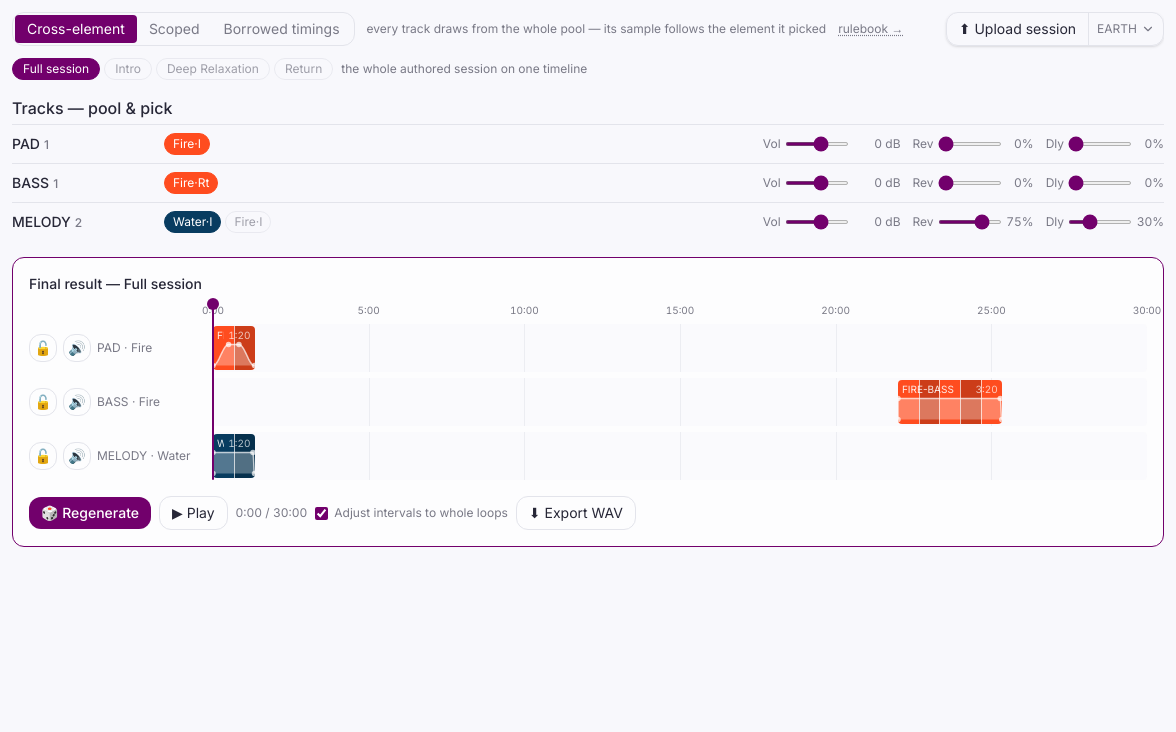
Scenario: RemixView › hides the element chips until scoped mode is on
Click the button "Scoped".
click(174, 29)  # box [137,15,212,43]
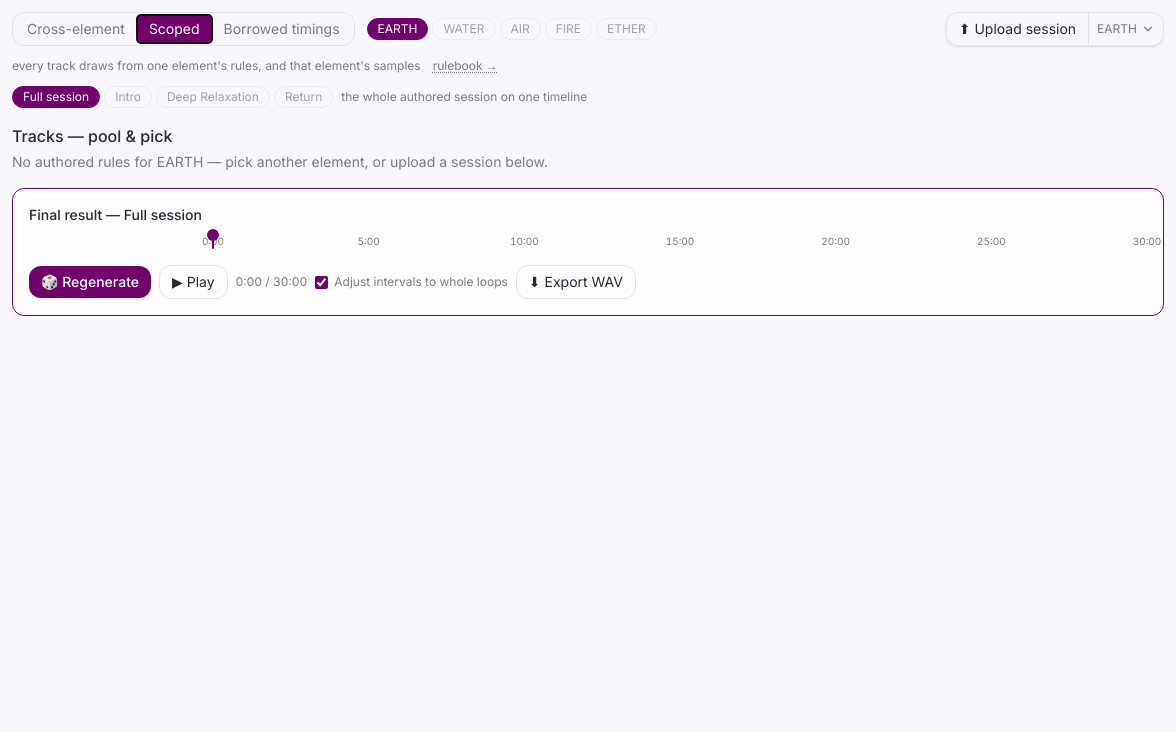
Check: the 1st button "EARTH" is shown, box [366,18,428,40]
Check: the button "AIR" is shown, box [500,18,541,40]
Check: the button "ETHER" is shown, box [596,18,657,40]
